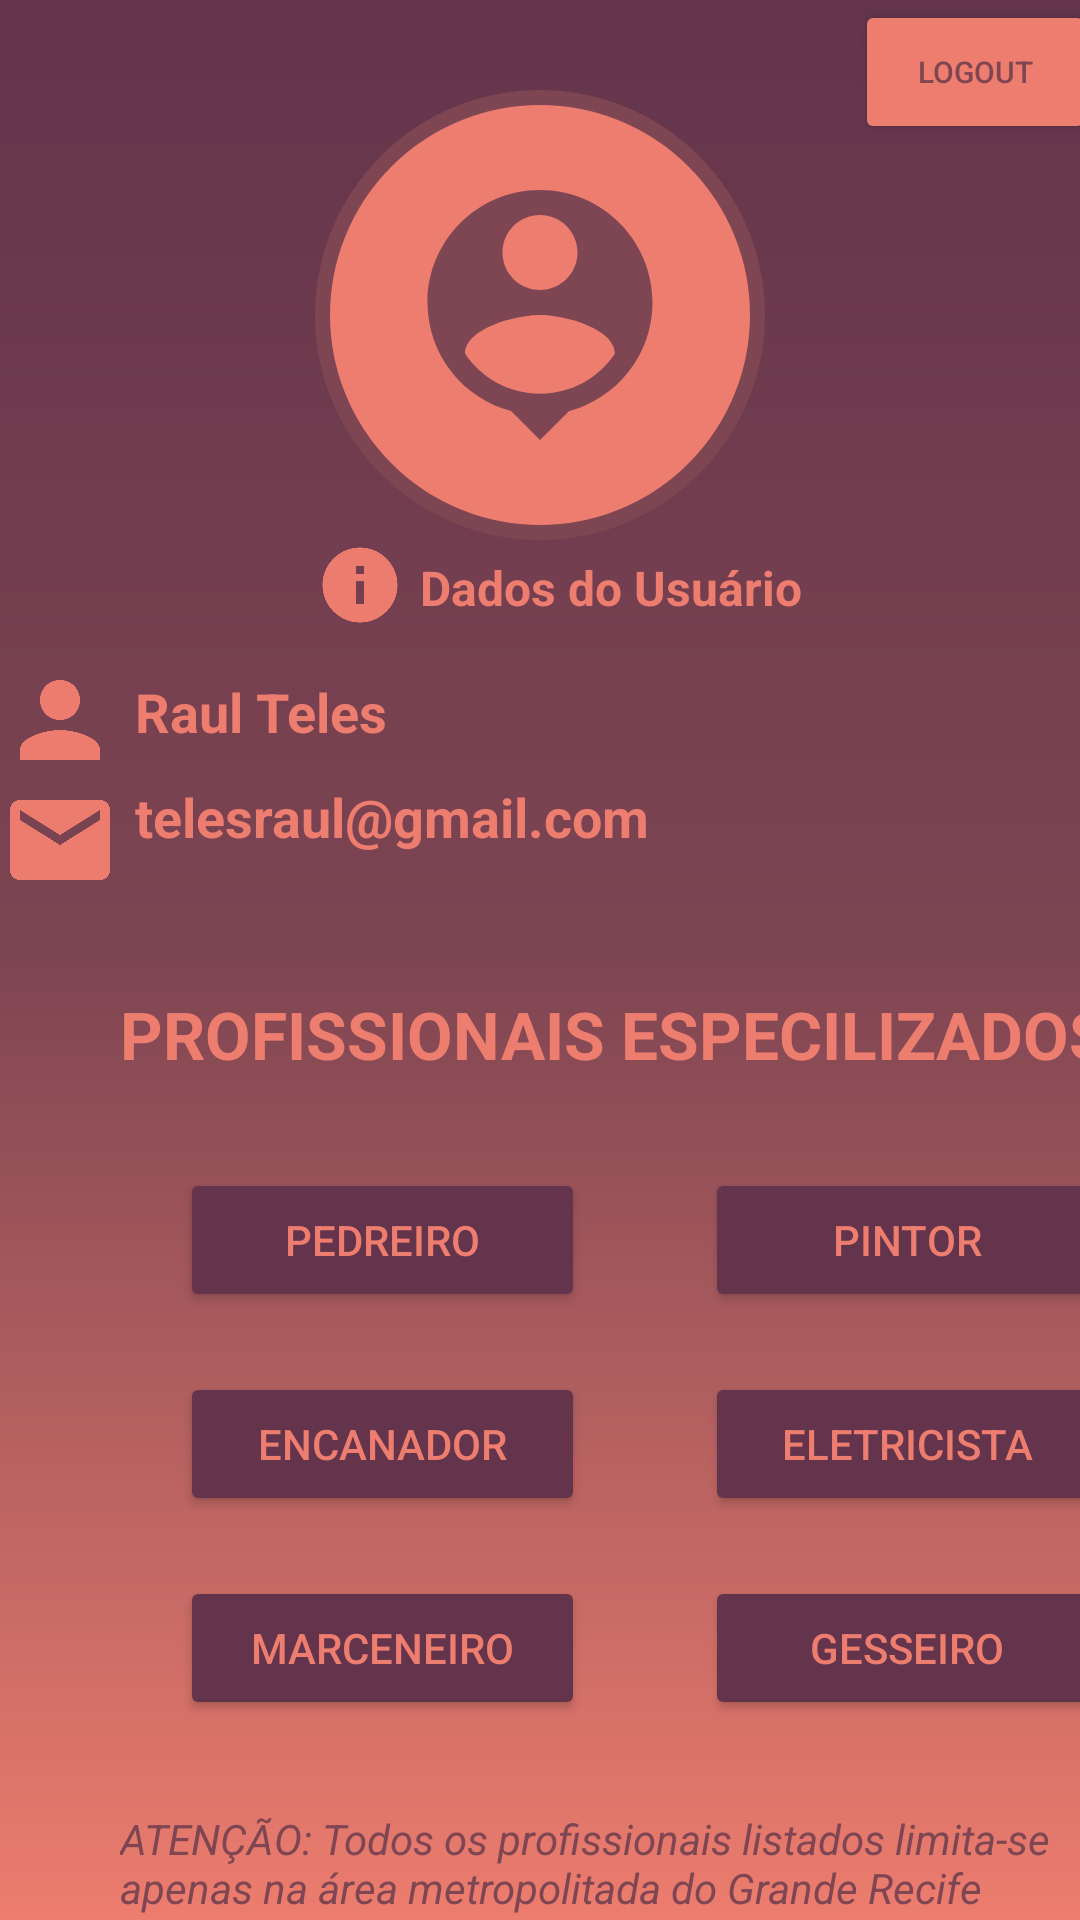

Point at icon controls on the screen. Image size 1080×1920, points as (x,y).
email salmao: (60,840)
person salmao: (60,720)
